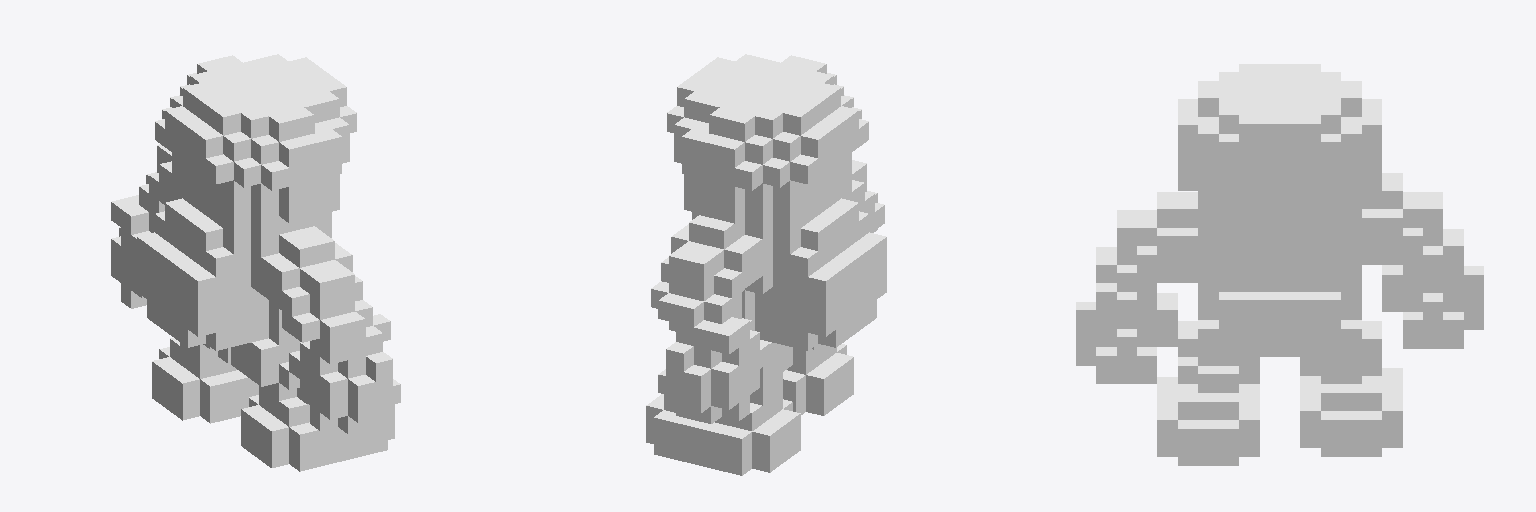
Rendered from PlayerWalkAnim-4.obj.
3 views of the same model, side by side, from view 1: azimuth 30°, elevation 25°; view 2: azimuth 150°, elevation 25°; view 3: azimuth 270°, elevation 25° (orthographic).
Bounding box in the file's own units: 10 × 18 × 20.